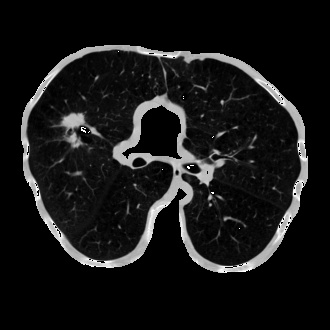PN: (61, 116, 85, 140)
